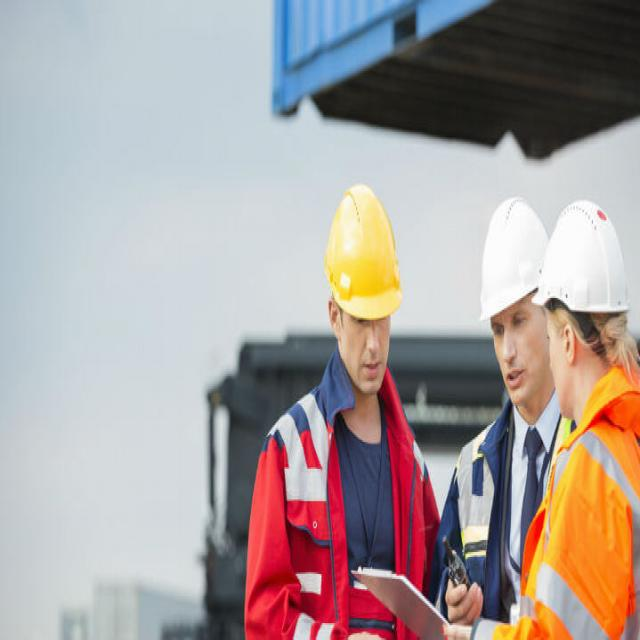Reflective-Jacket: (245, 364, 434, 640), (520, 377, 640, 640), (445, 401, 573, 635)
Safety-Helmet: (318, 176, 409, 329), (536, 188, 636, 327), (470, 186, 546, 332)
